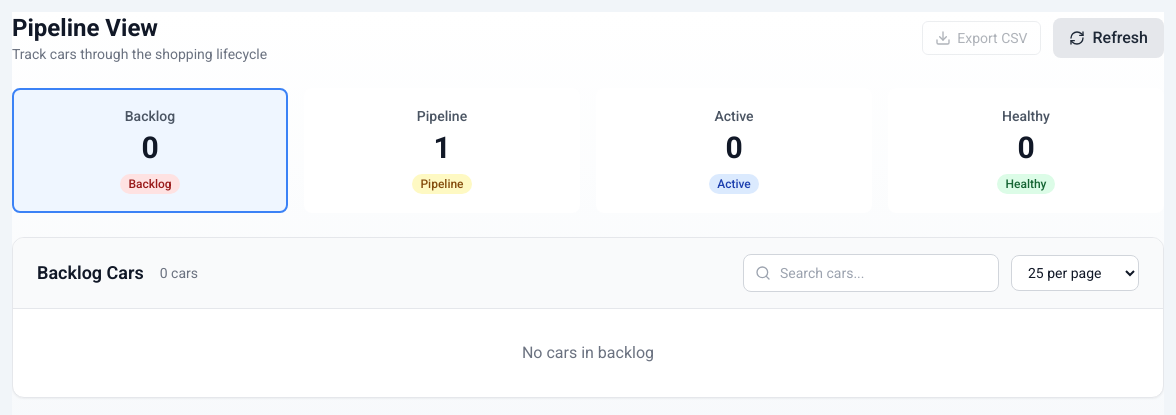
Test: PipelinePage › switches to pipeline tab and shows View Details
Click Pipeline tab
Click the 1st text "Pipeline": [442, 116] box [417,108,467,124]
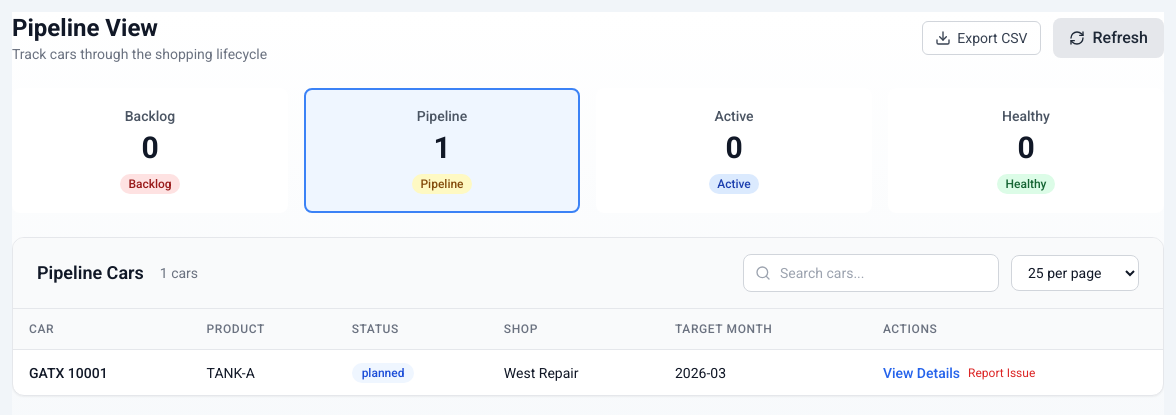
Check: the button "View Details" is shown, box [883,362,960,382]
Check: the button "Report Issue" is shown, box [968,364,1035,380]
Check: the column heading "Shop" is shown, box [488,309,659,350]
